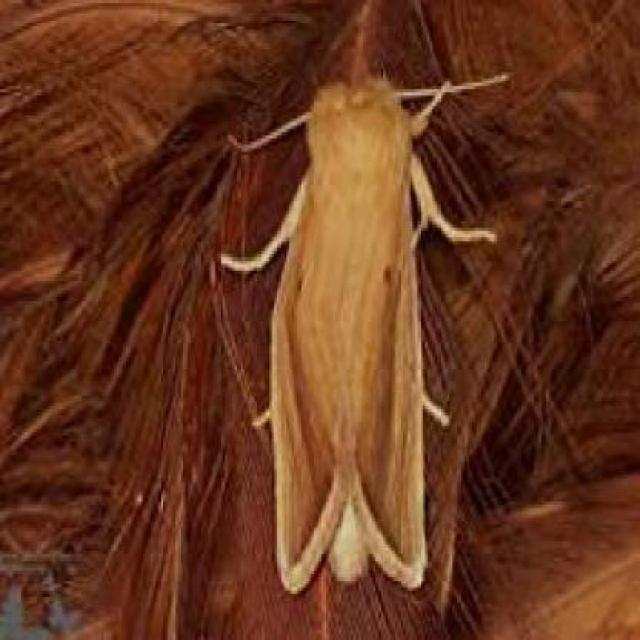stem-borer: (260, 60, 432, 600)
